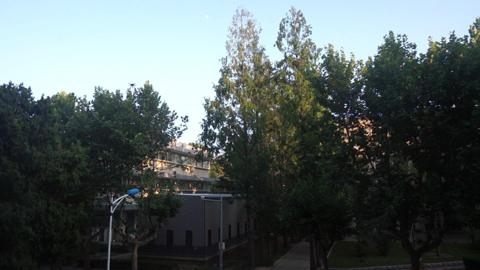UAV: (129, 83, 136, 90)
